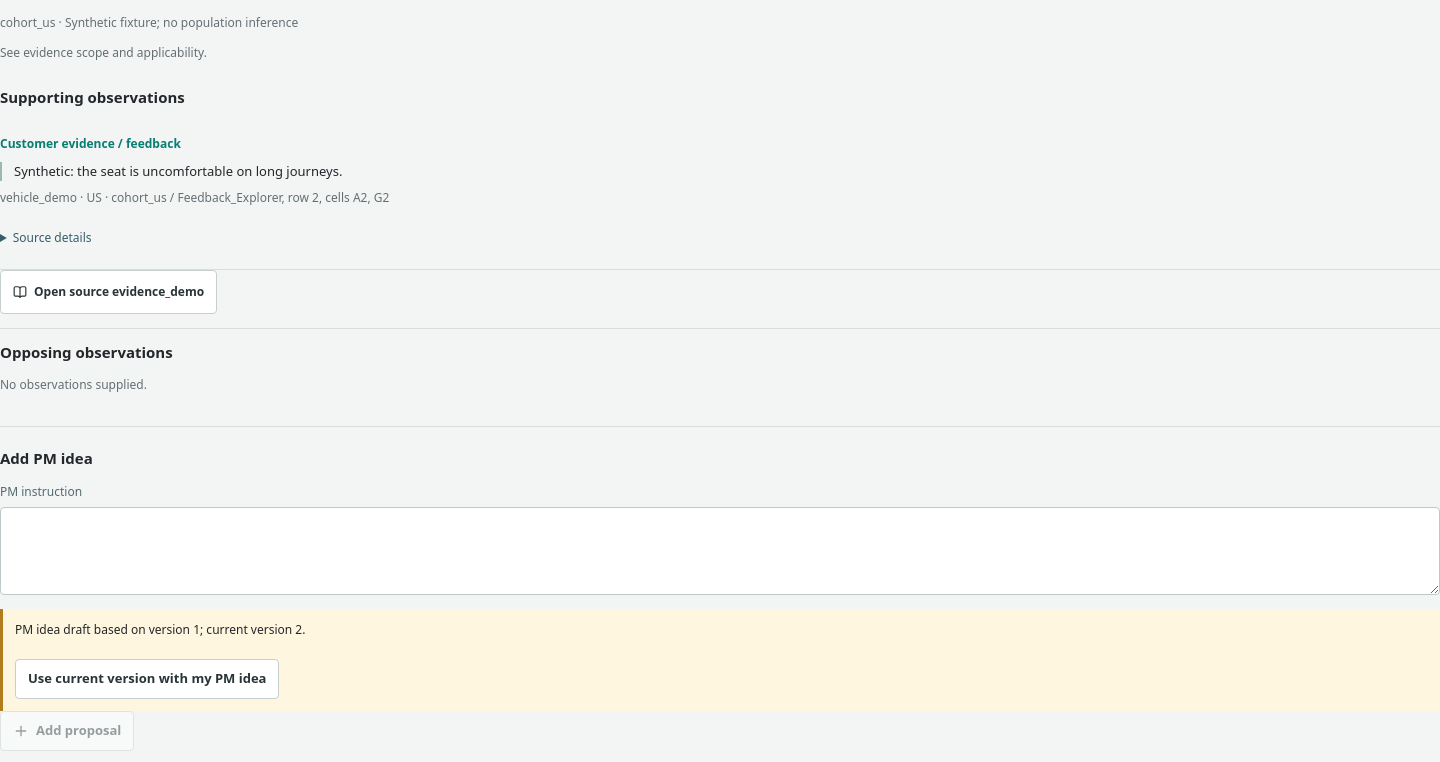
reconciling PM idea does not rebase grouping draft implicitly
(page scrolled)
What coordinates should you click on to do the following:
click the button "Use current version with my PM idea"
I would click on:
 (147, 679)
Its box is 15,659 -> 280,699.
(page scrolled)
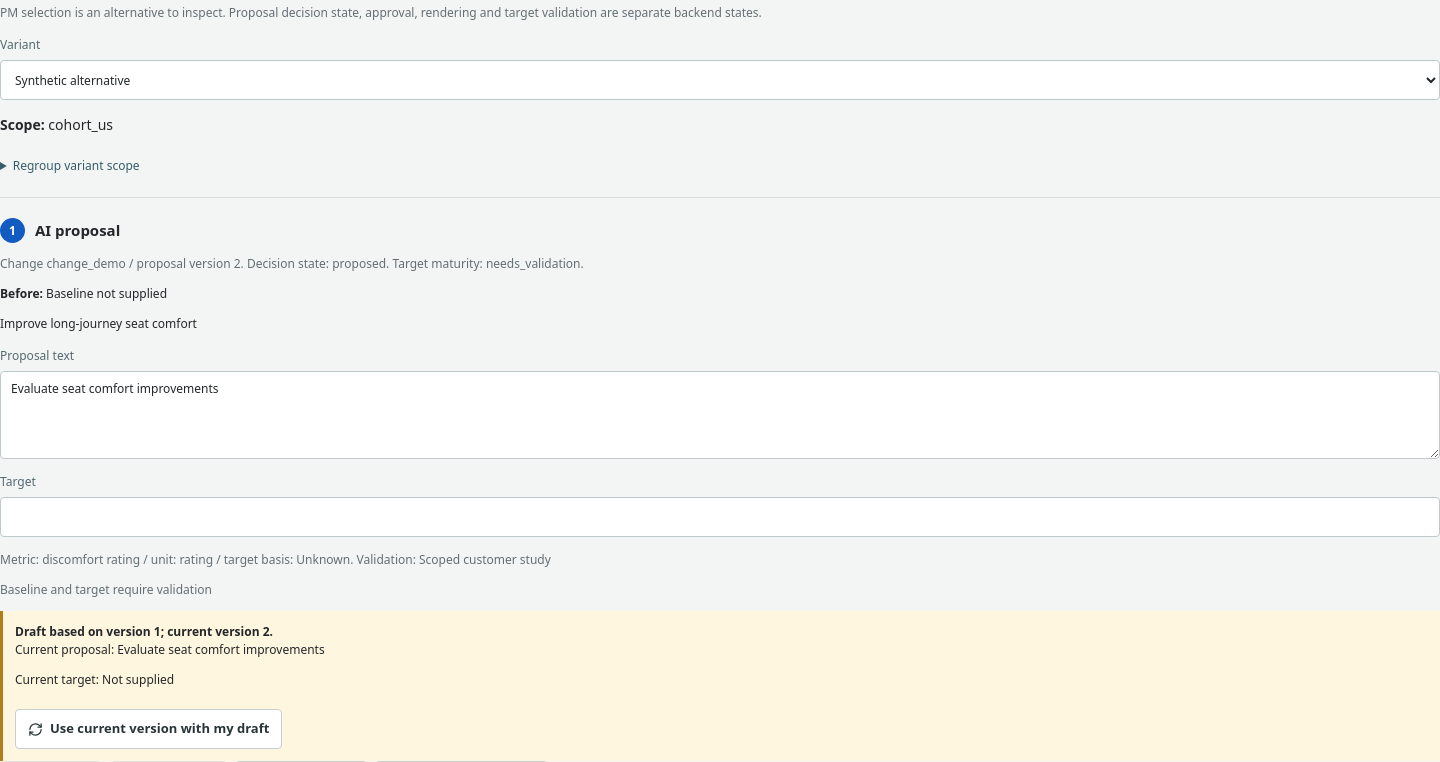
What coordinates should you click on to do the following:
click the heading "Regroup variant scope"
I would click on:
 (76, 166)
Its box is 13,157 -> 140,174.
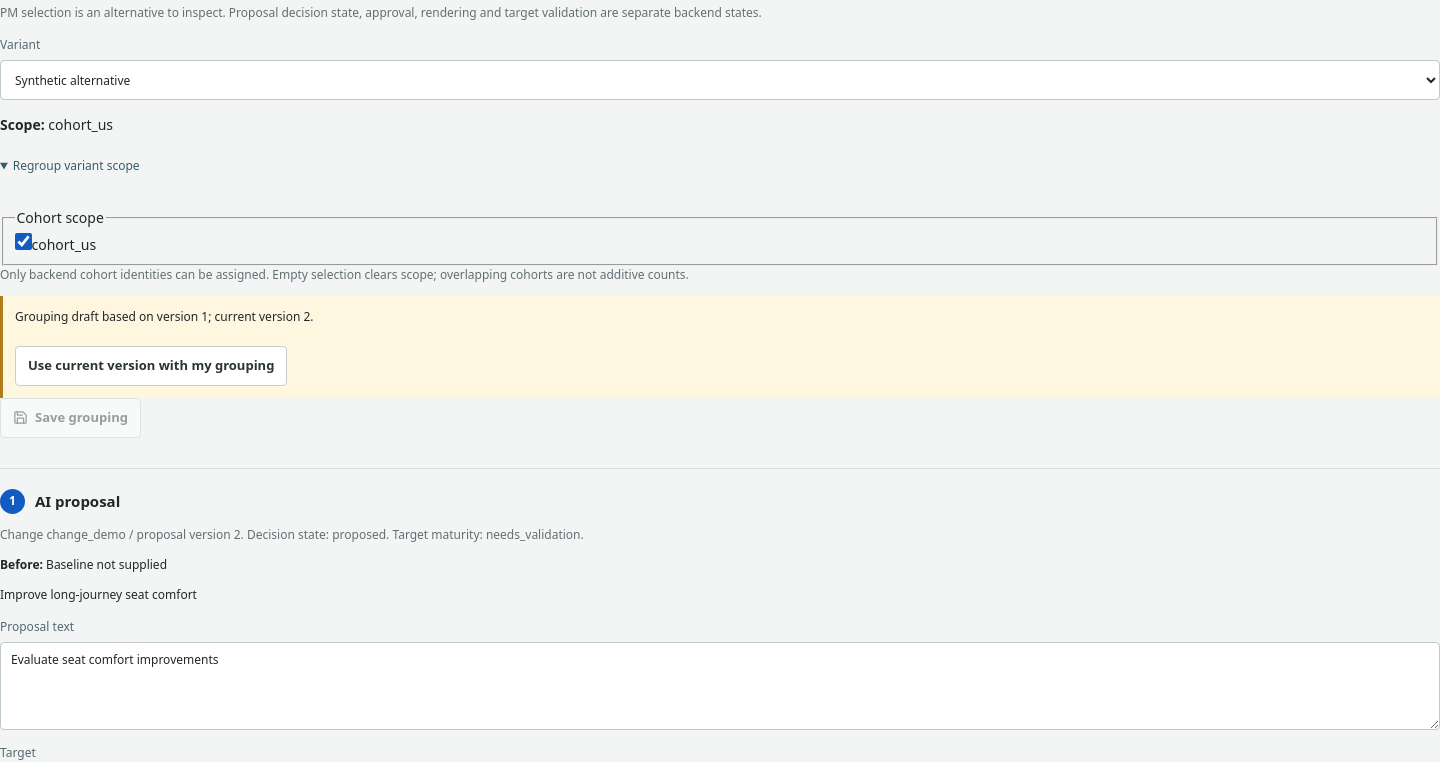
Expected: the button "Save grouping" is disabled, 0,398 -> 141,438
Expected: the button "Use current version with my grouping" is shown, 15,346 -> 287,386
